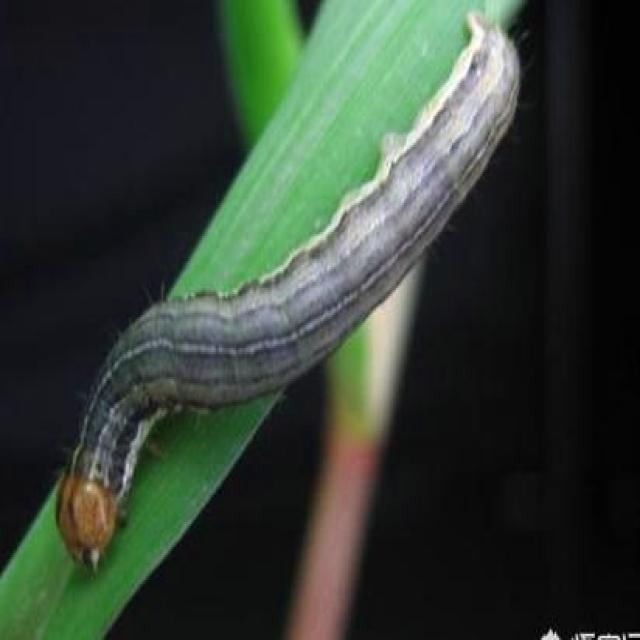army worm: (50, 16, 527, 571)
